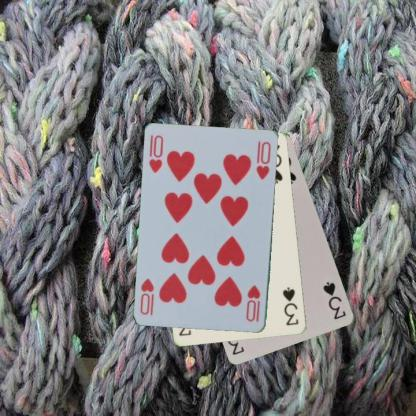10h: (243, 282, 262, 324), (146, 133, 164, 175)
3s: (320, 279, 348, 321), (280, 285, 300, 327)
